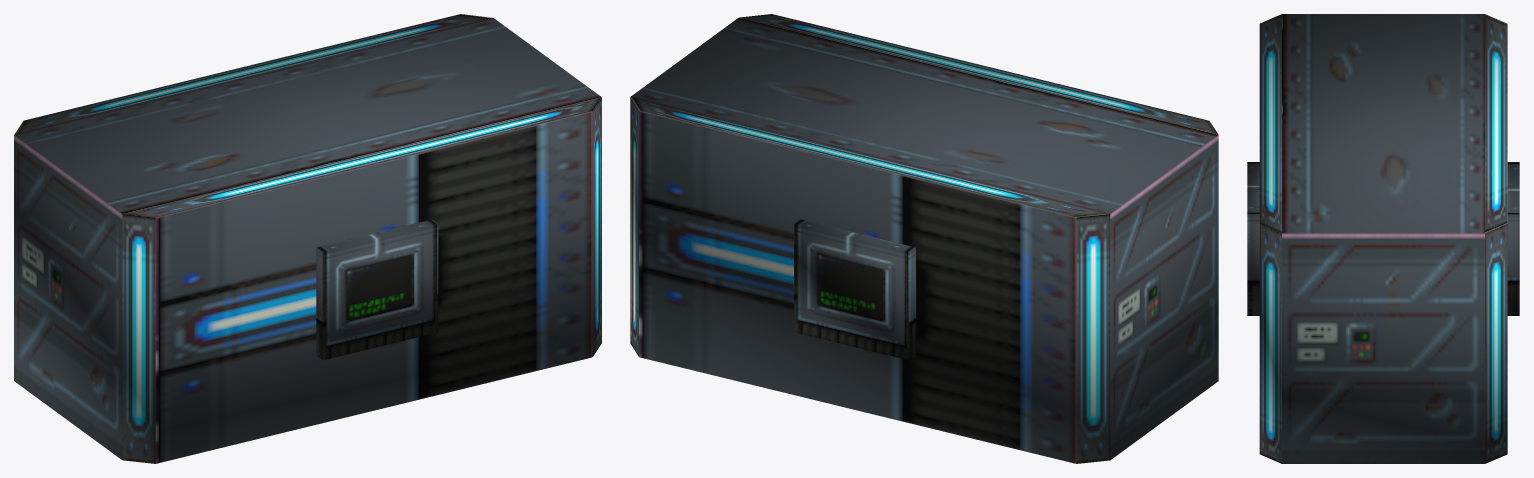
Rendered from Container.fbx.
3 views of the same model, side by side, from view 1: azimuth 30°, elevation 25°; view 2: azimuth 150°, elevation 25°; view 3: azimuth 270°, elevation 25° (orthographic). The views are drawn at different scales.
Visible parts, largest first — view 1: Container; view 2: Container; view 3: Container.
Boxes of the visible parts, bbox=[...] form: Container: bbox=[14, 14, 601, 463]; Container: bbox=[630, 14, 1218, 463]; Container: bbox=[1247, 14, 1519, 463].
Bounding box in the file's own units: 4.49 × 2.2 × 2.35.
